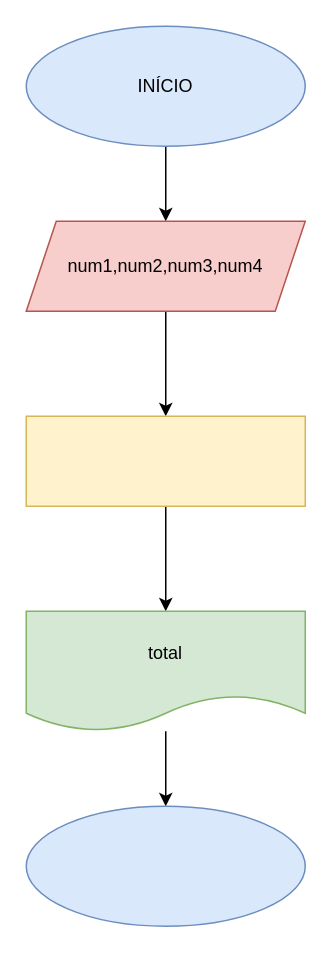
Some shapes in this 332 by 953 pixel diagram are drawn without their labels. The shapes that lost their labels are listed below. From the top down, each one's centre as x and y in pixels, then its label:
[165,460]: num1^2,num2^2,num3^2,num4^2 tot1+tot2+tot3+tot4
[165,865]: FIM
